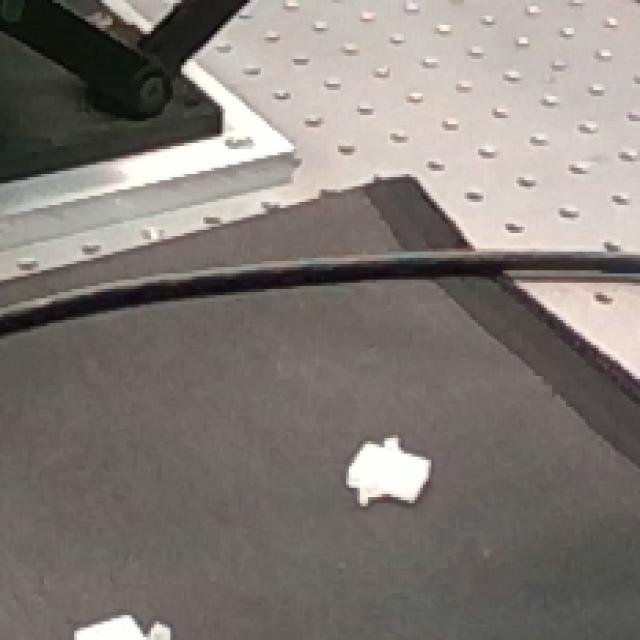Target: (334, 421, 442, 522), (54, 599, 181, 640)
